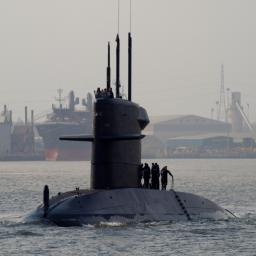submarine: (16, 98, 232, 227)
